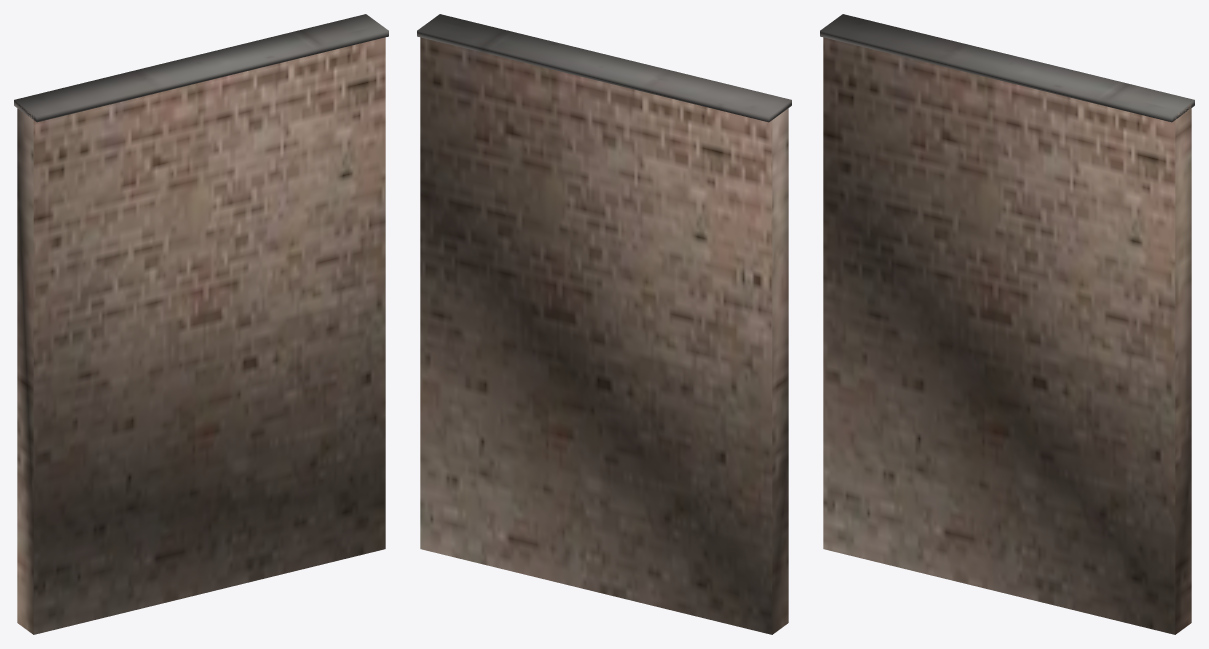
The model's file is Wall_2.glb.
3 views of the same model, side by side, from view 1: azimuth 30°, elevation 25°; view 2: azimuth 150°, elevation 25°; view 3: azimuth 330°, elevation 25° (orthographic).
Parts seen in each view (by area): view 1: Wall_2; view 2: Wall_2; view 3: Wall_2.
Part boxes in pixels (x1,y1,x2,y2): Wall_2: [14, 14, 388, 634]; Wall_2: [417, 14, 791, 634]; Wall_2: [820, 14, 1194, 634].
Bounding box in the file's own units: 5.2 × 7.34 × 0.5838.
Materials: 1 (1 with a texture image).
